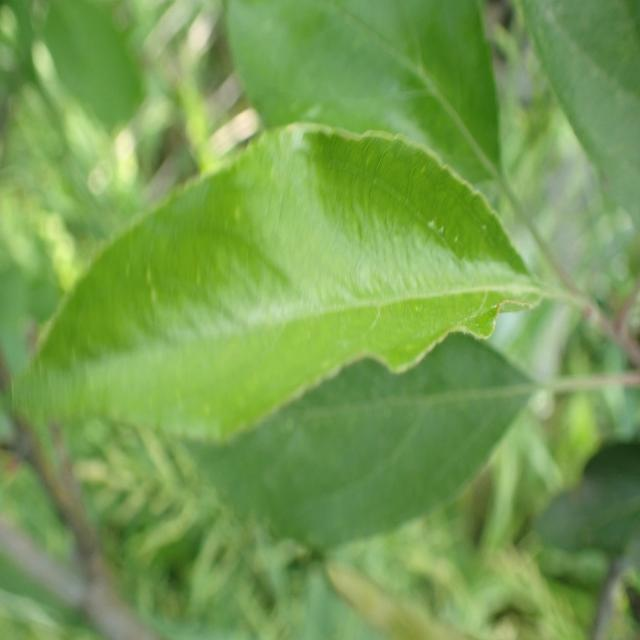healthy: (8, 122, 544, 444), (179, 334, 538, 554), (224, 0, 501, 192), (522, 0, 640, 230)
